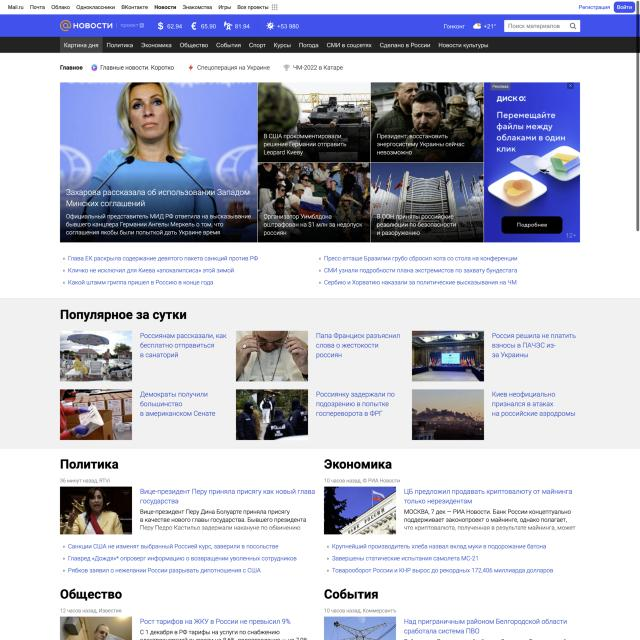input: (504, 19, 581, 32)
logo: (56, 19, 114, 33)
navigation: (61, 36, 497, 53), (3, 2, 283, 12)
